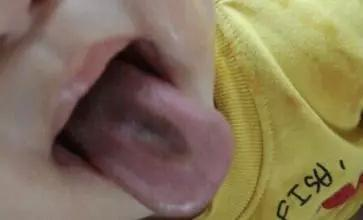heitaishe: (70, 71, 239, 217)
